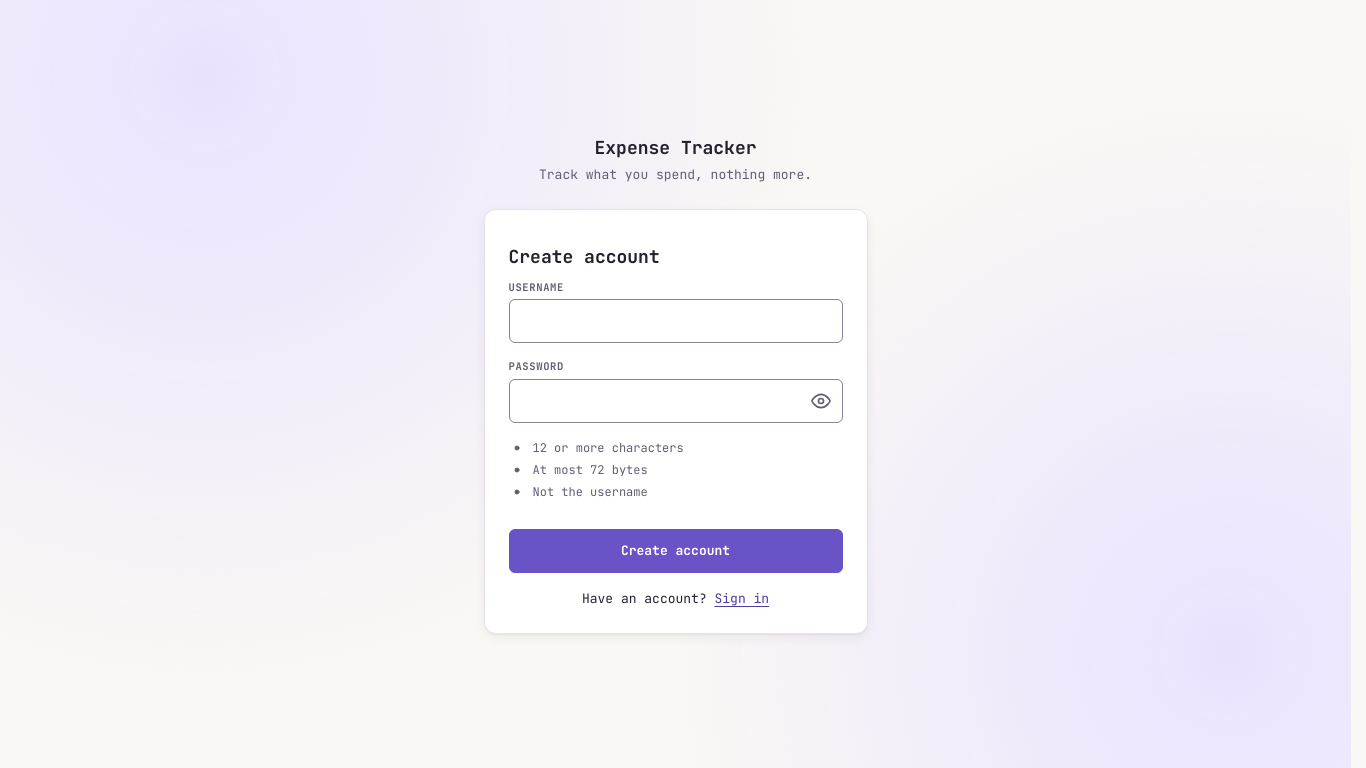
Scenario: register › registers, then logs in with the same credentials and shows the home page
Expected: the heading "Create account" is shown, [508,245,660,268]
In the field labelled "Username": (676, 321) [508,299,842,343], type "  carol "
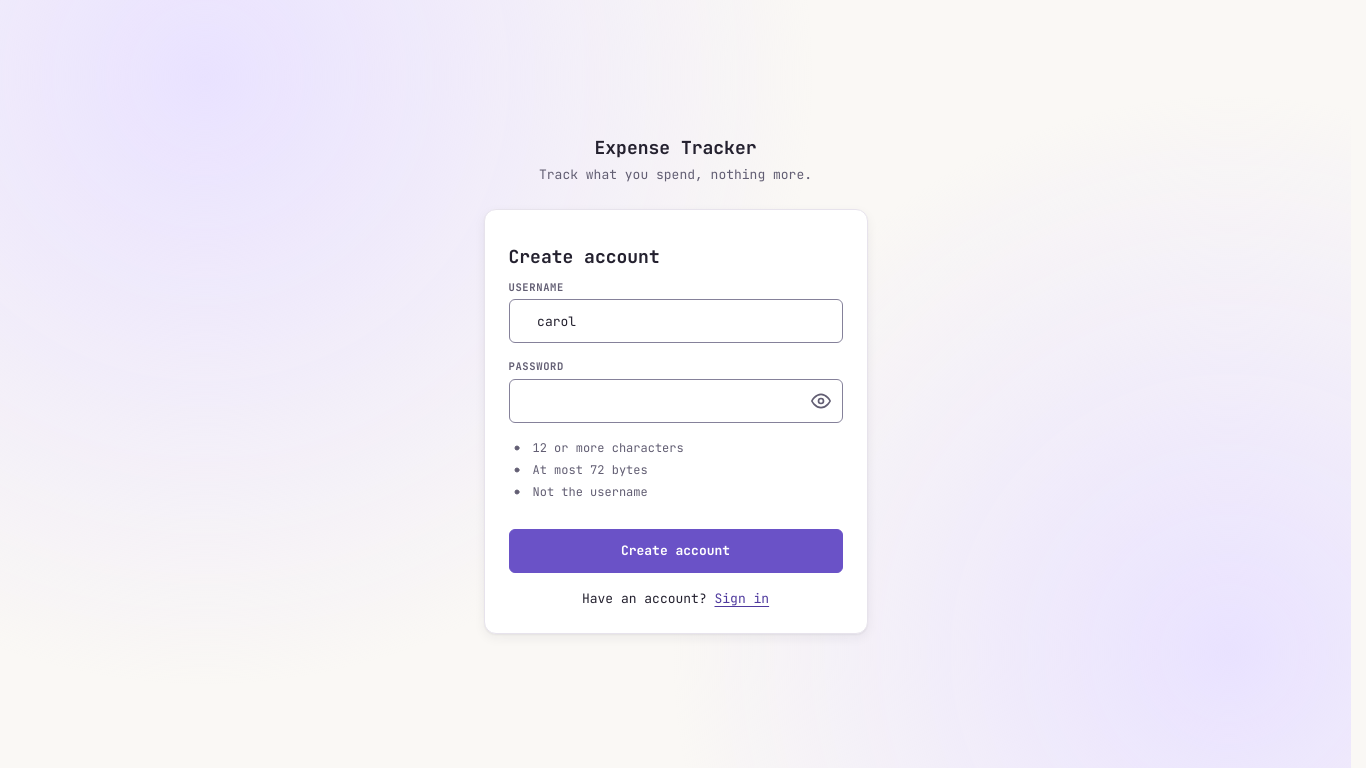
In the password field labelled "Password": (676, 401) [508,379,842,423], type "a-long-password"
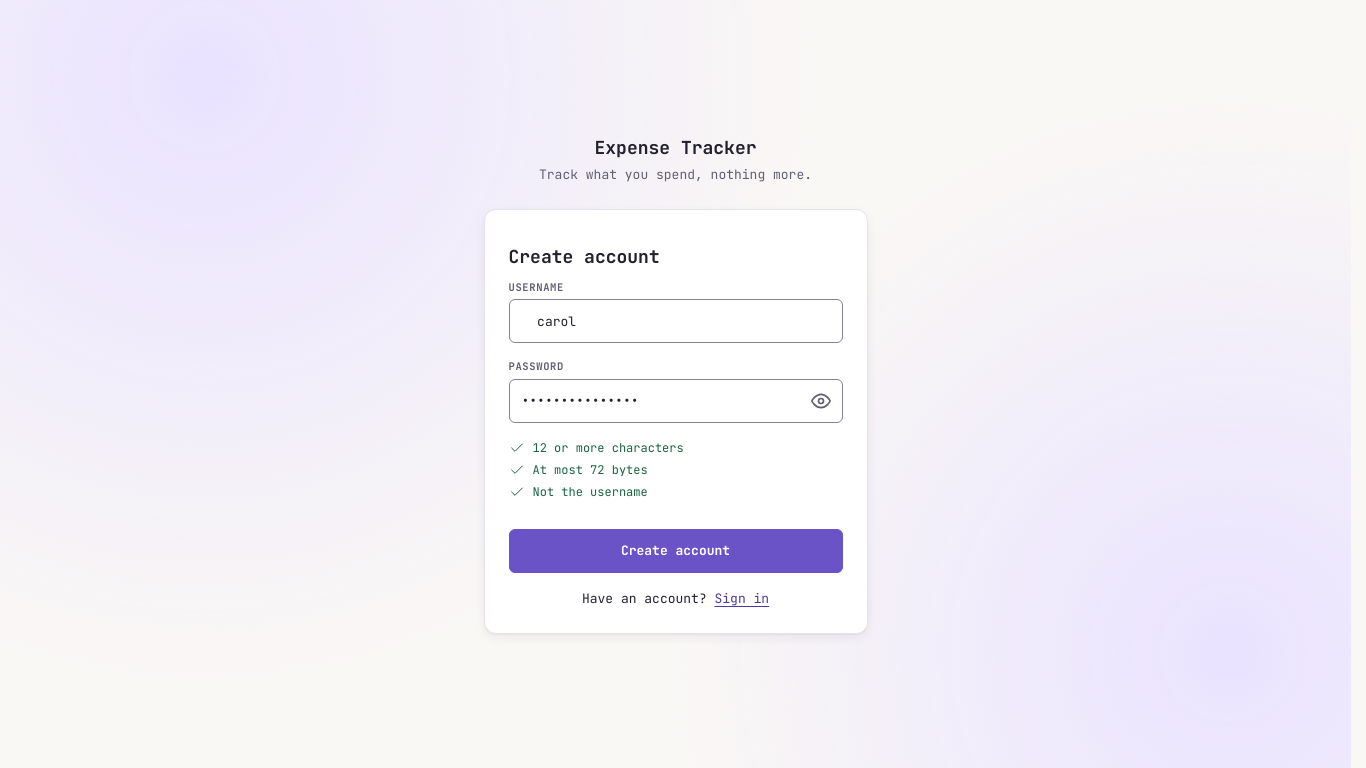
Click the button "Create account": (676, 551) [508,529,842,573]
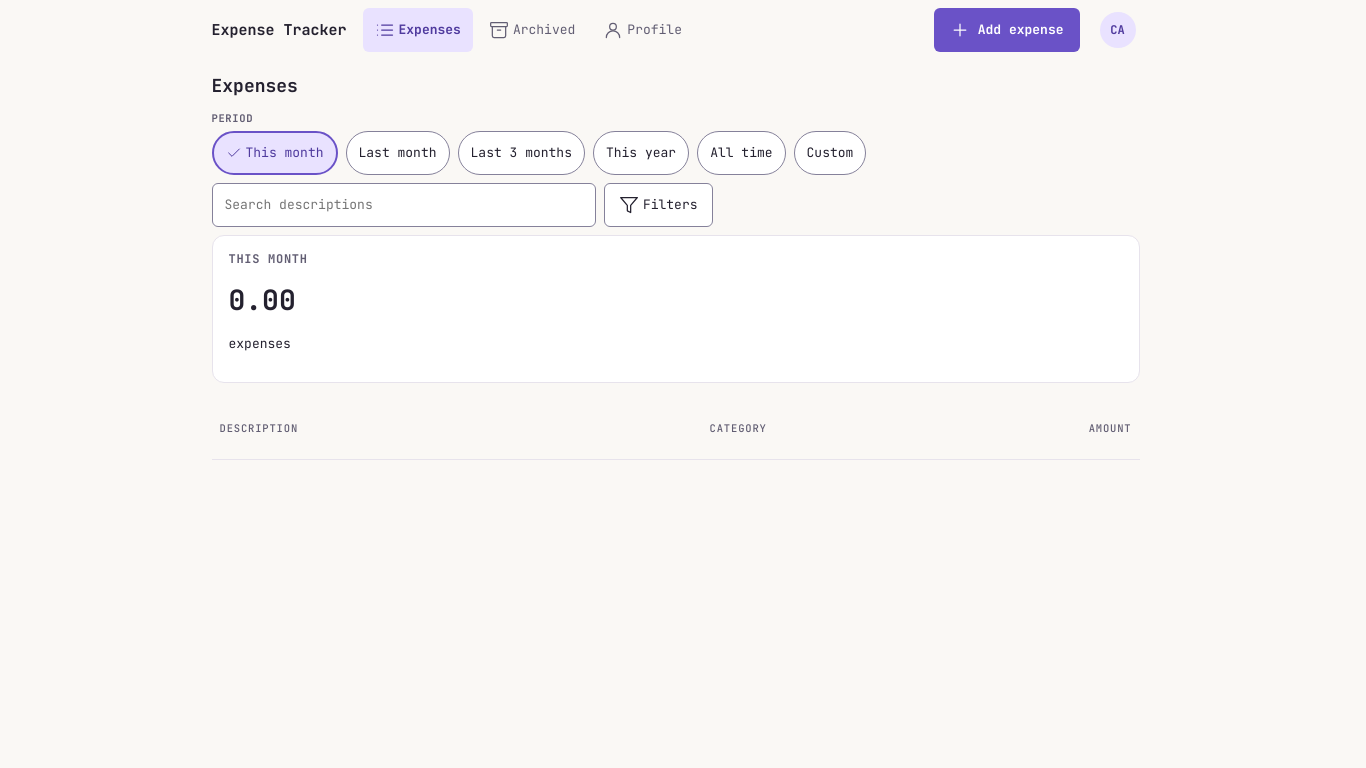
Expected: the link "Expense Tracker" is shown, [212,19,346,41]
Now the button with aria-label "Account menu for carol" is shown, box [1096,8,1140,52]
